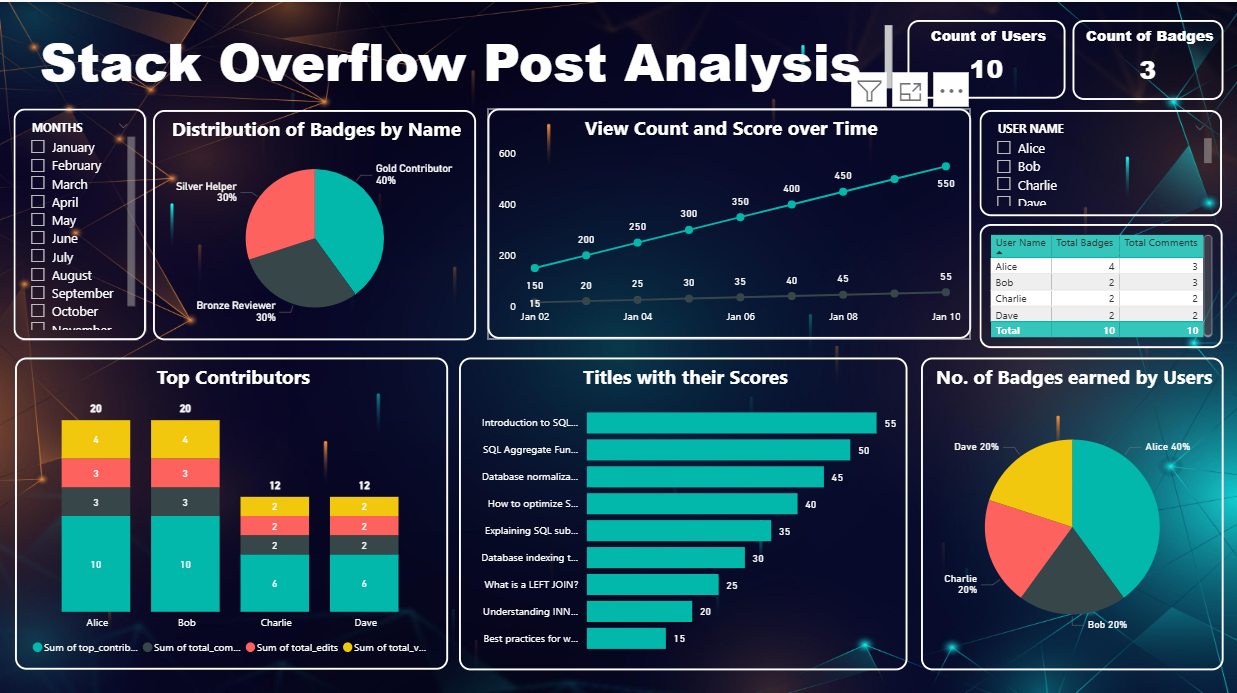

The page's visual inventory and layout, read from the dashboard file:
{"tool":"powerbi","page":{"name":"Page 1","canvas":[1280,720],"ordinal":0},"visuals":[{"type":"card","title":"Count of Users","fields":{"Values":["Count(users.id)"]},"box":[946.7,18.9,150,82.2],"z":0},{"type":"textbox","box":[12.7,19,922.2,81],"z":1000},{"type":"pieChart","title":"No. of Badges earned by Users","fields":{"Category":["insight3.display_name"],"Y":["Sum(insight3.total_badges)"]},"box":[960,370,315,326.2],"z":2000},{"type":"pieChart","title":"Distribution of Badges by Name","fields":{"Category":["insight2.name"],"Y":["Sum(insight2.badges_count)"]},"box":[160,112.2,336.7,240],"z":3000},{"type":"columnChart","title":"Top Contributors","fields":{"Category":["insight5.display_name"],"Y":["Sum(insight5.top_contributors)","Sum(insight5.total_comments)","Sum(insight5.total_edits)","Sum(insight5.total_votes)"]},"box":[14.9,370.2,451.1,325.5],"z":4000},{"type":"lineChart","title":"View Count and Score over Time","fields":{"Category":["insight1.creation_date"],"Y":["Sum(insight1.view_count)","Sum(insight1.score)"]},"box":[507.5,111.2,503.8,240],"z":5000},{"type":"clusteredBarChart","title":"Titles with their Scores ","fields":{"Category":["insight1.title"],"Y":["Sum(insight1.score)"]},"box":[478.8,370,467.5,326.2],"z":6000},{"type":"slicer","fields":{"Values":["badges.date.Variation.Date Hierarchy.Month"]},"box":[13.3,111.1,137.8,241.1],"z":7000},{"type":"card","title":"Count of Badges","fields":{"Values":["Count(badges.name)"]},"box":[1105.4,17.9,150,83.9],"z":8000},{"type":"tableEx","fields":{"Values":["insight6.display_name","Sum(insight6.total_badges)","Sum(insight6.total_comments)"]},"box":[1020.6,214.3,254,146],"z":9000},{"type":"slicer","fields":{"Values":["users.display_name"]},"box":[1020.6,112.7,234.9,101.6],"z":10000}]}

Visuals, with their boxes in screenshot pixels (x1, y1, x2, y2), scaled from the page's 1280x720 canvas onto the 1237x693 screenshot:
"Count of Users" card: [915, 18, 1060, 97]
textbox: [12, 18, 903, 96]
"No. of Badges earned by Users" pieChart: [928, 356, 1232, 670]
"Distribution of Badges by Name" pieChart: [155, 108, 480, 339]
"Top Contributors" columnChart: [14, 356, 450, 670]
"View Count and Score over Time" lineChart: [490, 107, 977, 338]
"Titles with their Scores " clusteredBarChart: [463, 356, 915, 670]
slicer - badges.date.Variation.Date Hierarchy.Month: [13, 107, 146, 339]
"Count of Badges" card: [1068, 17, 1213, 98]
tableEx - insight6.display_name x Sum(insight6.total_badges): [986, 206, 1232, 347]
slicer - users.display_name: [986, 108, 1213, 206]
